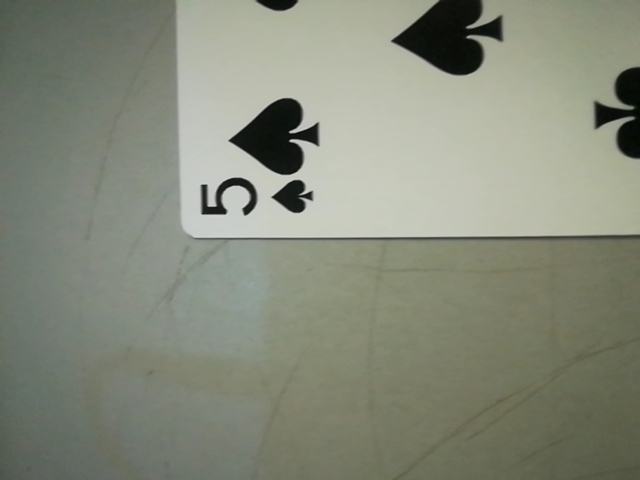ht 5: (186, 156, 331, 232)
